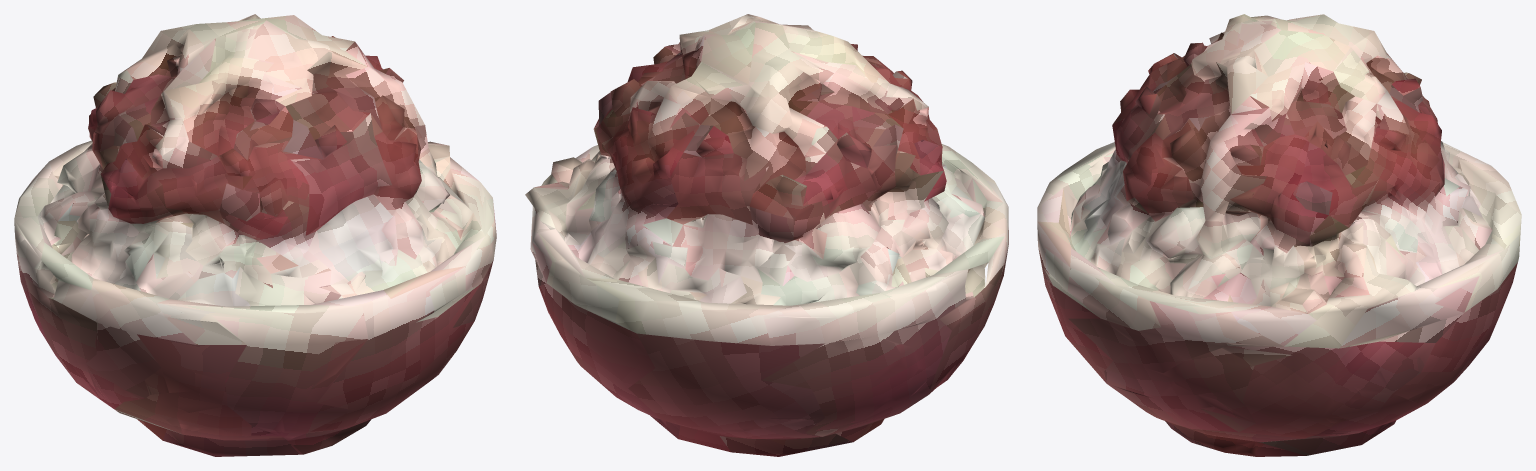
Rendered from KR_사물_s1_food_tier1_patbingsu.glb.
The picture shows the model from 3 angles, left to right: view 1: azimuth 30°, elevation 25°; view 2: azimuth 150°, elevation 25°; view 3: azimuth 270°, elevation 25°; orthographic projection.
Parts seen in each view (by area): view 1: tripo_node_d464f239-3e02-437f-aa7f-7103f7c9e458; view 2: tripo_node_d464f239-3e02-437f-aa7f-7103f7c9e458; view 3: tripo_node_d464f239-3e02-437f-aa7f-7103f7c9e458.
Boxes of the visible parts, <box> form: tripo_node_d464f239-3e02-437f-aa7f-7103f7c9e458: <box>14,14,496,456</box>; tripo_node_d464f239-3e02-437f-aa7f-7103f7c9e458: <box>525,14,1008,456</box>; tripo_node_d464f239-3e02-437f-aa7f-7103f7c9e458: <box>1037,14,1521,456</box>.
Bounding box in the file's own units: 0.9981 × 0.881 × 0.9975.
1 material, 1 textured.
